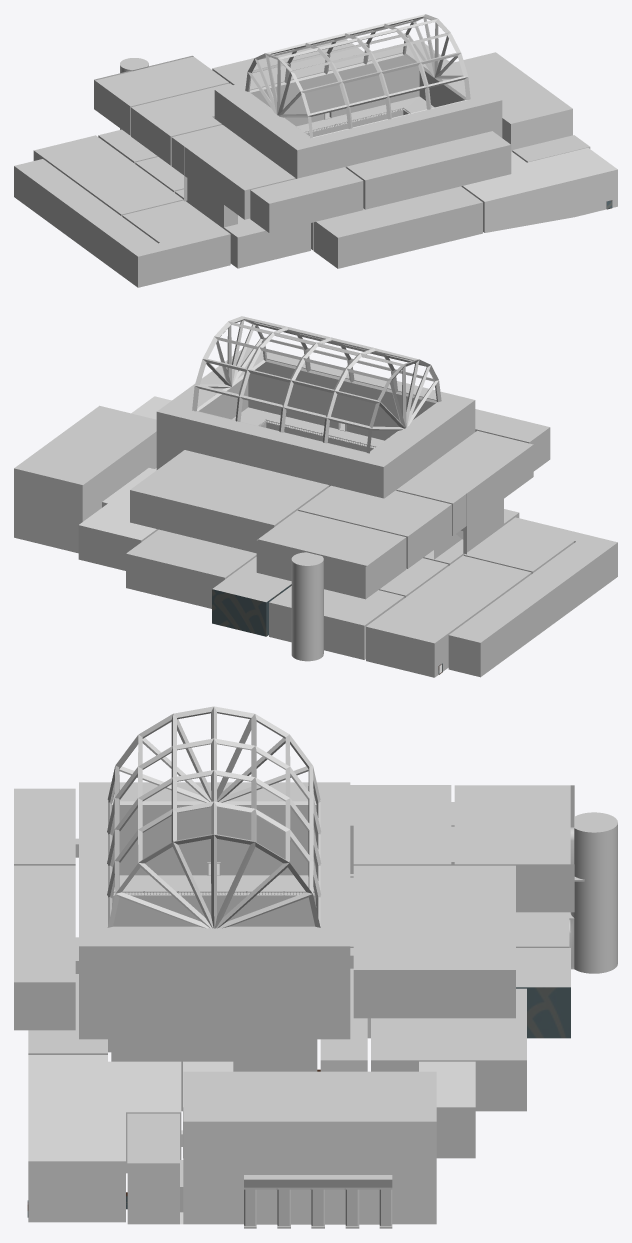
Rendered from MuseumBlockout.fbx.
3 renders of one model, top to bottom at view 1: azimuth 30°, elevation 25°; view 2: azimuth 150°, elevation 25°; view 3: azimuth 270°, elevation 25°, orthographic. The views are drawn at different scales.
Parts seen in each view (by area): view 1: BalconyWalls, Dome, HallwayArtRoomWalls, HallwayArtRoomCeiling, MainHallCeiling, NightWatchRoomCeiling, ShowroomWalls, BackroomWalls, EntranceCeiling, LandArtRoomWalls, OpticArtRoomCeiling, BackroomCeiling (+18 smaller); view 2: BalconyWalls, Dome, HallwayArtRoomCeiling, SurrealismArtRoomCeiling, EntranceWalls, MainHallCeiling, NightWatchRoomCeiling, HallwayArtRoomWalls, EntranceCeiling, SurrealismArtRoomWalls, OpticArtRoomCeiling, CubismArtRoomCeiling (+21 smaller); view 3: BalconyWalls, EntranceWalls, Dome, SurrealismArtRoomCeiling, MainHallCeiling, EntranceCeiling, BackroomCeiling, MainHallWalls, CubismArtRoomCeiling, LightArtRoomCeiling, SurrealismArtRoomWalls, LandArtRoomCeiling (+17 smaller).
Part boxes in pixels (left/top/right/bottom): BalconyWalls: left=214, top=52, right=502, bottom=178; Dome: left=245, top=14, right=470, bottom=138; HallwayArtRoomWalls: left=14, top=166, right=230, bottom=287; HallwayArtRoomCeiling: left=14, top=159, right=230, bottom=256; MainHallCeiling: left=215, top=42, right=501, bottom=150; NightWatchRoomCeiling: left=34, top=135, right=182, bottom=214; ShowroomWalls: left=313, top=202, right=482, bottom=268; BackroomWalls: left=461, top=169, right=617, bottom=232; EntranceCeiling: left=452, top=52, right=589, bottom=161; LandArtRoomWalls: left=346, top=145, right=511, bottom=209; OpticArtRoomCeiling: left=172, top=124, right=294, bottom=190; BackroomCeiling: left=463, top=148, right=617, bottom=201; BalconyWalls: left=156, top=359, right=475, bottom=498; Dome: left=192, top=316, right=441, bottom=453; HallwayArtRoomCeiling: left=449, top=517, right=617, bottom=642; SurrealismArtRoomCeiling: left=130, top=450, right=328, bottom=525; EntranceWalls: left=14, top=431, right=156, bottom=553; MainHallCeiling: left=157, top=347, right=474, bottom=466; NightWatchRoomCeiling: left=366, top=555, right=531, bottom=643; HallwayArtRoomWalls: left=448, top=541, right=617, bottom=677; EntranceCeiling: left=14, top=405, right=156, bottom=484; SurrealismArtRoomWalls: left=130, top=485, right=329, bottom=553; OpticArtRoomCeiling: left=397, top=430, right=533, bottom=503; CubismArtRoomCeiling: left=258, top=510, right=405, bottom=565; BalconyWalls: left=79, top=805, right=350, bottom=1039; EntranceWalls: left=127, top=1121, right=436, bottom=1224; Dome: left=107, top=706, right=321, bottom=928; SurrealismArtRoomCeiling: left=353, top=865, right=515, bottom=969; MainHallCeiling: left=79, top=782, right=350, bottom=946; EntranceCeiling: left=127, top=1071, right=436, bottom=1163; BackroomCeiling: left=28, top=1055, right=181, bottom=1161; MainHallWalls: left=111, top=896, right=317, bottom=1111; CubismArtRoomCeiling: left=454, top=785, right=570, bottom=864; LightArtRoomCeiling: left=350, top=785, right=451, bottom=864; SurrealismArtRoomWalls: left=353, top=970, right=515, bottom=1018; LandArtRoomCeiling: left=14, top=865, right=75, bottom=982.
Bounding box in the file's own units: 25588 × 9449 × 17844.
